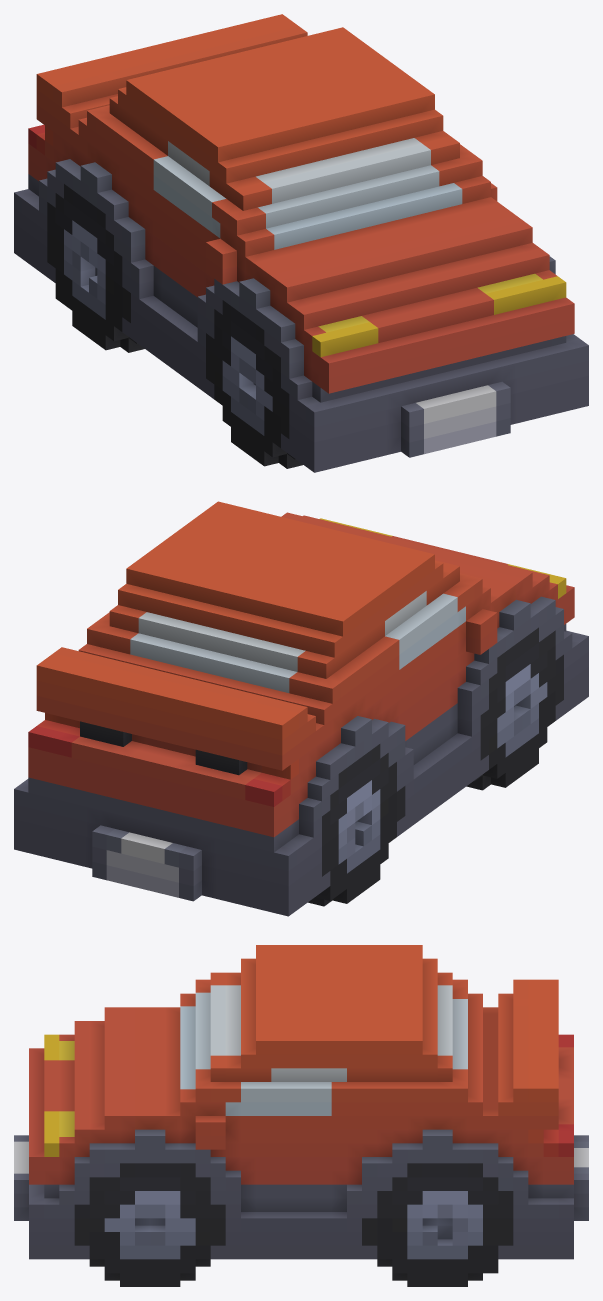
The model's file is sedan_sports.glb.
3 views of the same model, one above another, from view 1: azimuth 30°, elevation 25°; view 2: azimuth 150°, elevation 25°; view 3: azimuth 270°, elevation 25° (orthographic). The views are drawn at different scales.
Visible parts, largest first — view 1: voxels; view 2: voxels; view 3: voxels.
Part boxes in pixels (left/top/right/bottom): voxels: left=14, top=14, right=588, bottom=472; voxels: left=14, top=501, right=588, bottom=916; voxels: left=14, top=945, right=588, bottom=1286.
Bounding box in the file's own units: 1.31 × 1.17 × 2.61.
